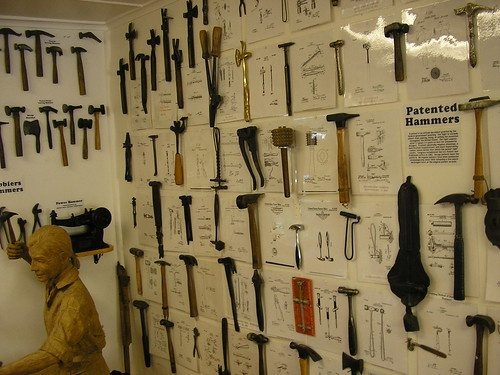hammer: (437, 191, 479, 302), (455, 95, 500, 189), (323, 111, 359, 202), (335, 285, 372, 356), (451, 3, 492, 66), (216, 257, 250, 331), (238, 194, 270, 268), (379, 20, 416, 83), (273, 40, 302, 119), (462, 311, 498, 373), (177, 251, 204, 318), (25, 26, 51, 81), (134, 301, 155, 367), (326, 40, 350, 96), (159, 320, 182, 374), (133, 52, 153, 113), (14, 44, 37, 93), (69, 45, 91, 96), (5, 106, 27, 157), (244, 333, 271, 373), (129, 246, 151, 294), (290, 340, 319, 375), (38, 103, 58, 151), (52, 121, 71, 168), (88, 105, 106, 150), (45, 42, 63, 84), (64, 101, 80, 147), (2, 28, 17, 73), (78, 118, 94, 159)
